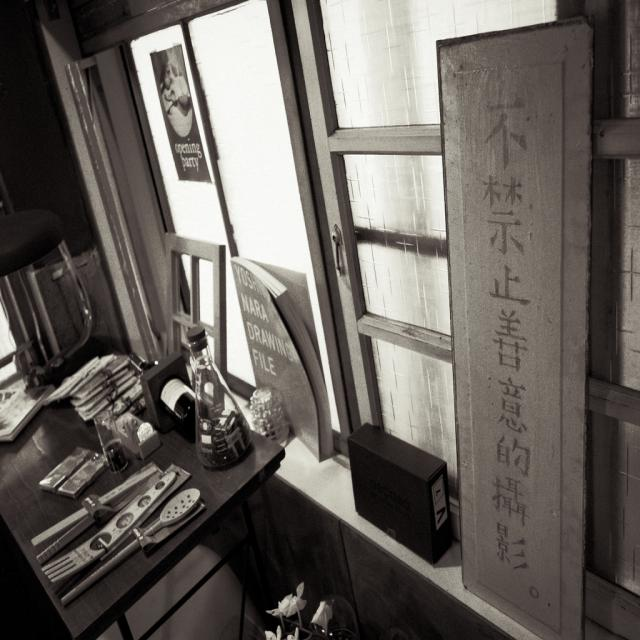desk: (0, 382, 375, 616)
